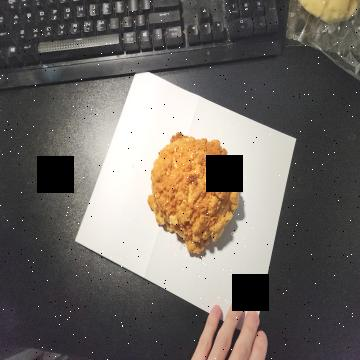soboru_bread: (145, 132, 241, 262)
